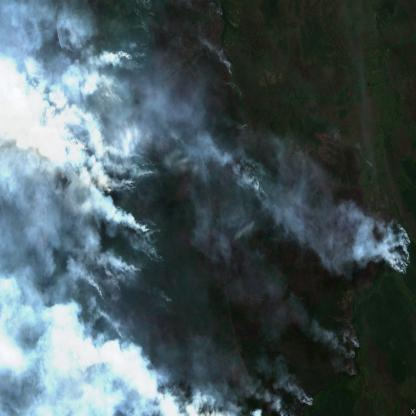fire: (56, 27, 196, 416), (377, 215, 413, 282)
